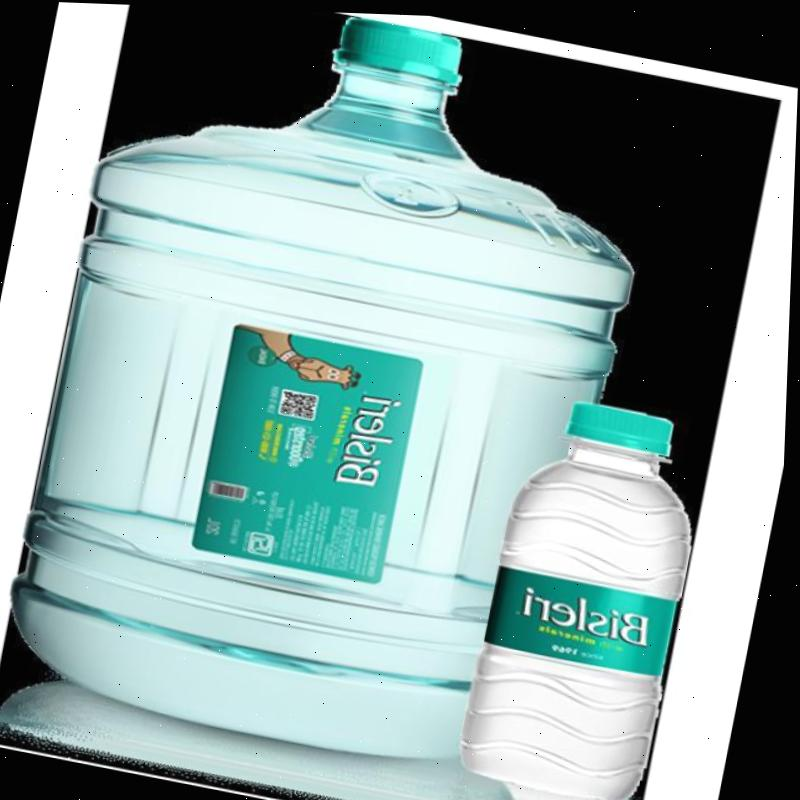botella: (461, 383, 720, 800)
